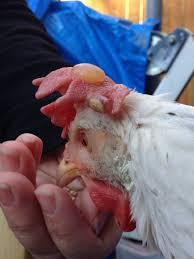AbNormal: (35, 63, 129, 128)
